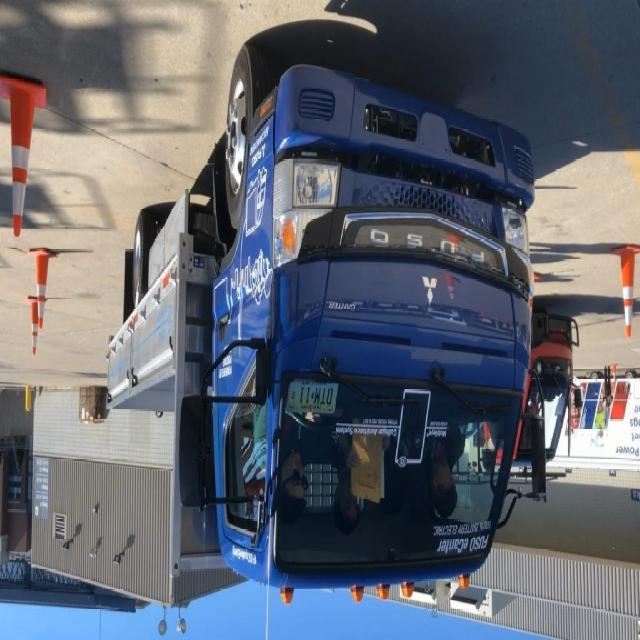truck: (110, 45, 546, 612)
